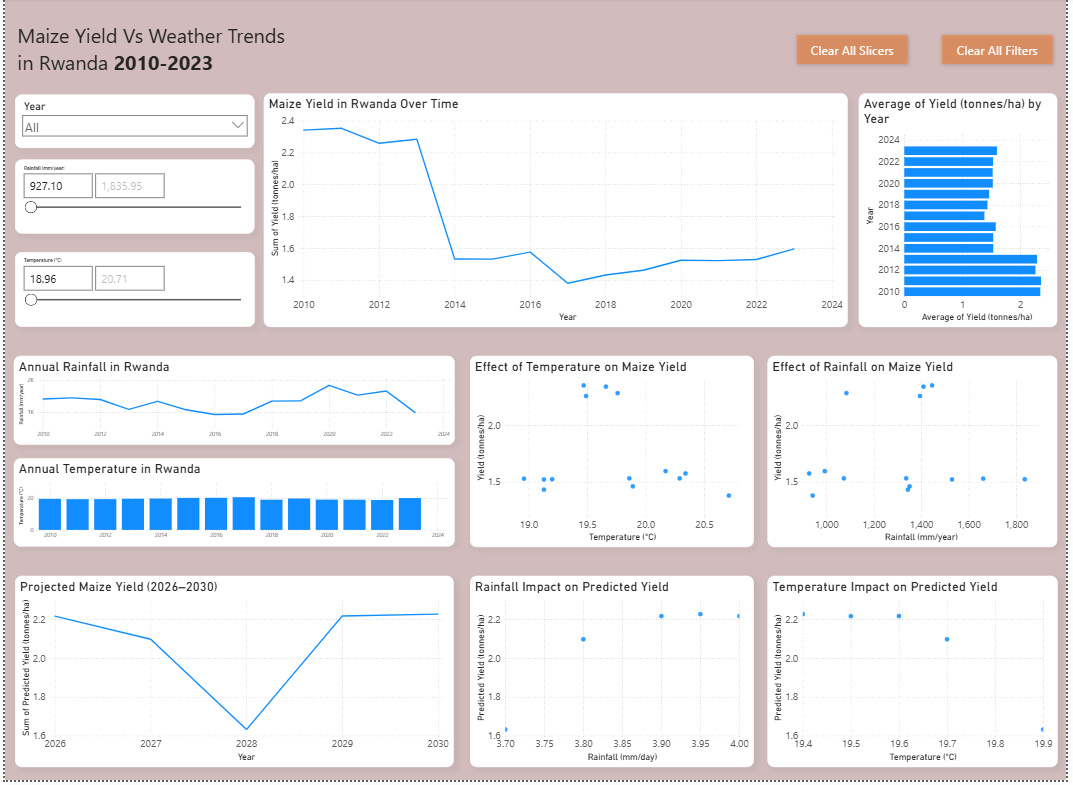

The page's visual inventory and layout, read from the dashboard file:
{"tool":"powerbi","page":{"name":"Page 1","canvas":[2280,1683],"ordinal":0},"visuals":[{"type":"lineChart","title":"Maize Yield in Rwanda Over Time","fields":{"Category":["merged_maize_weather_data.Year"],"Y":["Sum(merged_maize_weather_data.Yield (tonnes/ha))"]},"box":[556,205.7,1254.3,502.7],"z":0},{"type":"slicer","fields":{"Values":["merged_maize_weather_data.Year"]},"box":[21.1,208.2,514.6,115.5],"z":0,"group":"g2"},{"type":"slicer","fields":{"Values":["merged_maize_weather_data.Rainfall (mm/year)"]},"box":[21.1,349.1,514.6,159],"z":1000,"group":"g2"},{"type":"scatterChart","title":"Effect of Rainfall on Maize Yield","fields":{"X":["merged_maize_weather_data.Rainfall (mm/year)"],"Y":["merged_maize_weather_data.Yield (tonnes/ha)"]},"box":[1637.6,769.3,622,411.3],"z":1000},{"type":"lineChart","title":"Annual Rainfall in Rwanda","fields":{"Category":["merged_maize_weather_data.Year"],"Y":["Sum(merged_maize_weather_data.Rainfall (mm/year))"]},"box":[19.6,769.9,946.8,191.4],"z":1000,"group":"g1"},{"type":"slicer","fields":{"Values":["merged_maize_weather_data.Temperature (°C)"]},"box":[20.3,547.3,515,161.1],"z":2000,"group":"g2"},{"type":"scatterChart","title":"Effect of Temperature on Maize Yield","fields":{"X":["merged_maize_weather_data.Temperature (°C)"],"Y":["merged_maize_weather_data.Yield (tonnes/ha)"]},"box":[997.8,769.3,609.4,411.3],"z":2000},{"type":"clusteredColumnChart","title":"Annual Temperature in Rwanda","fields":{"Category":["merged_maize_weather_data.Year"],"Y":["Sum(merged_maize_weather_data.Temperature (°C))"]},"box":[19.6,990.5,946.8,189.7],"z":2000,"group":"g1"},{"type":"clusteredBarChart","fields":{"Category":["merged_maize_weather_data.Year"],"Y":["Avg(merged_maize_weather_data.Yield (tonnes/ha))"]},"box":[1833.1,205.7,426.5,502.7],"z":3000},{"type":"group","id":"g1","title":"Group 1","box":[19.6,769.9,945.9,411],"z":4000},{"type":"group","id":"g2","title":"Group 2","box":[20.3,208.2,515.4,500.2],"z":5000},{"type":"textbox","box":[20.3,48.2,863.3,132],"z":6000},{"type":"actionButton","box":[1691.4,73.3,256.6,80.7],"z":7000},{"type":"actionButton","box":[2001.9,73.3,256.6,80.7],"z":8000},{"type":"lineChart","title":"Projected Maize Yield (2026–2030)","fields":{"Category":["future_yield_predictions.Year"],"Y":["Sum(future_yield_predictions.Predicted Yield (tonnes/ha))"]},"box":[21.5,1243.2,942.5,411],"z":8001},{"type":"scatterChart","title":"Rainfall Impact on Predicted Yield","fields":{"X":["future_yield_predictions.Rainfall (mm/day)"],"Y":["future_yield_predictions.Predicted Yield (tonnes/ha)"]},"box":[998.8,1243.2,609.5,411],"z":8002},{"type":"scatterChart","title":"Temperature Impact on Predicted Yield","fields":{"X":["future_yield_predictions.Temperature (°C)"],"Y":["future_yield_predictions.Predicted Yield (tonnes/ha)"]},"box":[1637.9,1243.2,622.9,411],"z":8003}]}

Visuals, with their boxes in screenshot pixels (x1, y1, x2, y2), scaled from the page's 2280x1683 canvas onto the 1073x785 screenshot:
"Maize Yield in Rwanda Over Time" lineChart: region(262, 96, 852, 330)
slicer - merged_maize_weather_data.Year: region(10, 97, 252, 151)
slicer - merged_maize_weather_data.Rainfall (mm/year): region(10, 163, 252, 237)
"Effect of Rainfall on Maize Yield" scatterChart: region(771, 359, 1063, 551)
"Annual Rainfall in Rwanda" lineChart: region(9, 359, 455, 448)
slicer - merged_maize_weather_data.Temperature (°C): region(10, 255, 252, 330)
"Effect of Temperature on Maize Yield" scatterChart: region(470, 359, 756, 551)
"Annual Temperature in Rwanda" clusteredColumnChart: region(9, 462, 455, 550)
clusteredBarChart - merged_maize_weather_data.Year x Avg(merged_maize_weather_data.Yield (tonnes/ha)): region(863, 96, 1063, 330)
"Group 1" group: region(9, 359, 454, 551)
"Group 2" group: region(10, 97, 252, 330)
textbox: region(10, 22, 416, 84)
actionButton: region(796, 34, 917, 72)
actionButton: region(942, 34, 1063, 72)
"Projected Maize Yield (2026–2030)" lineChart: region(10, 580, 454, 772)
"Rainfall Impact on Predicted Yield" scatterChart: region(470, 580, 757, 772)
"Temperature Impact on Predicted Yield" scatterChart: region(771, 580, 1064, 772)
